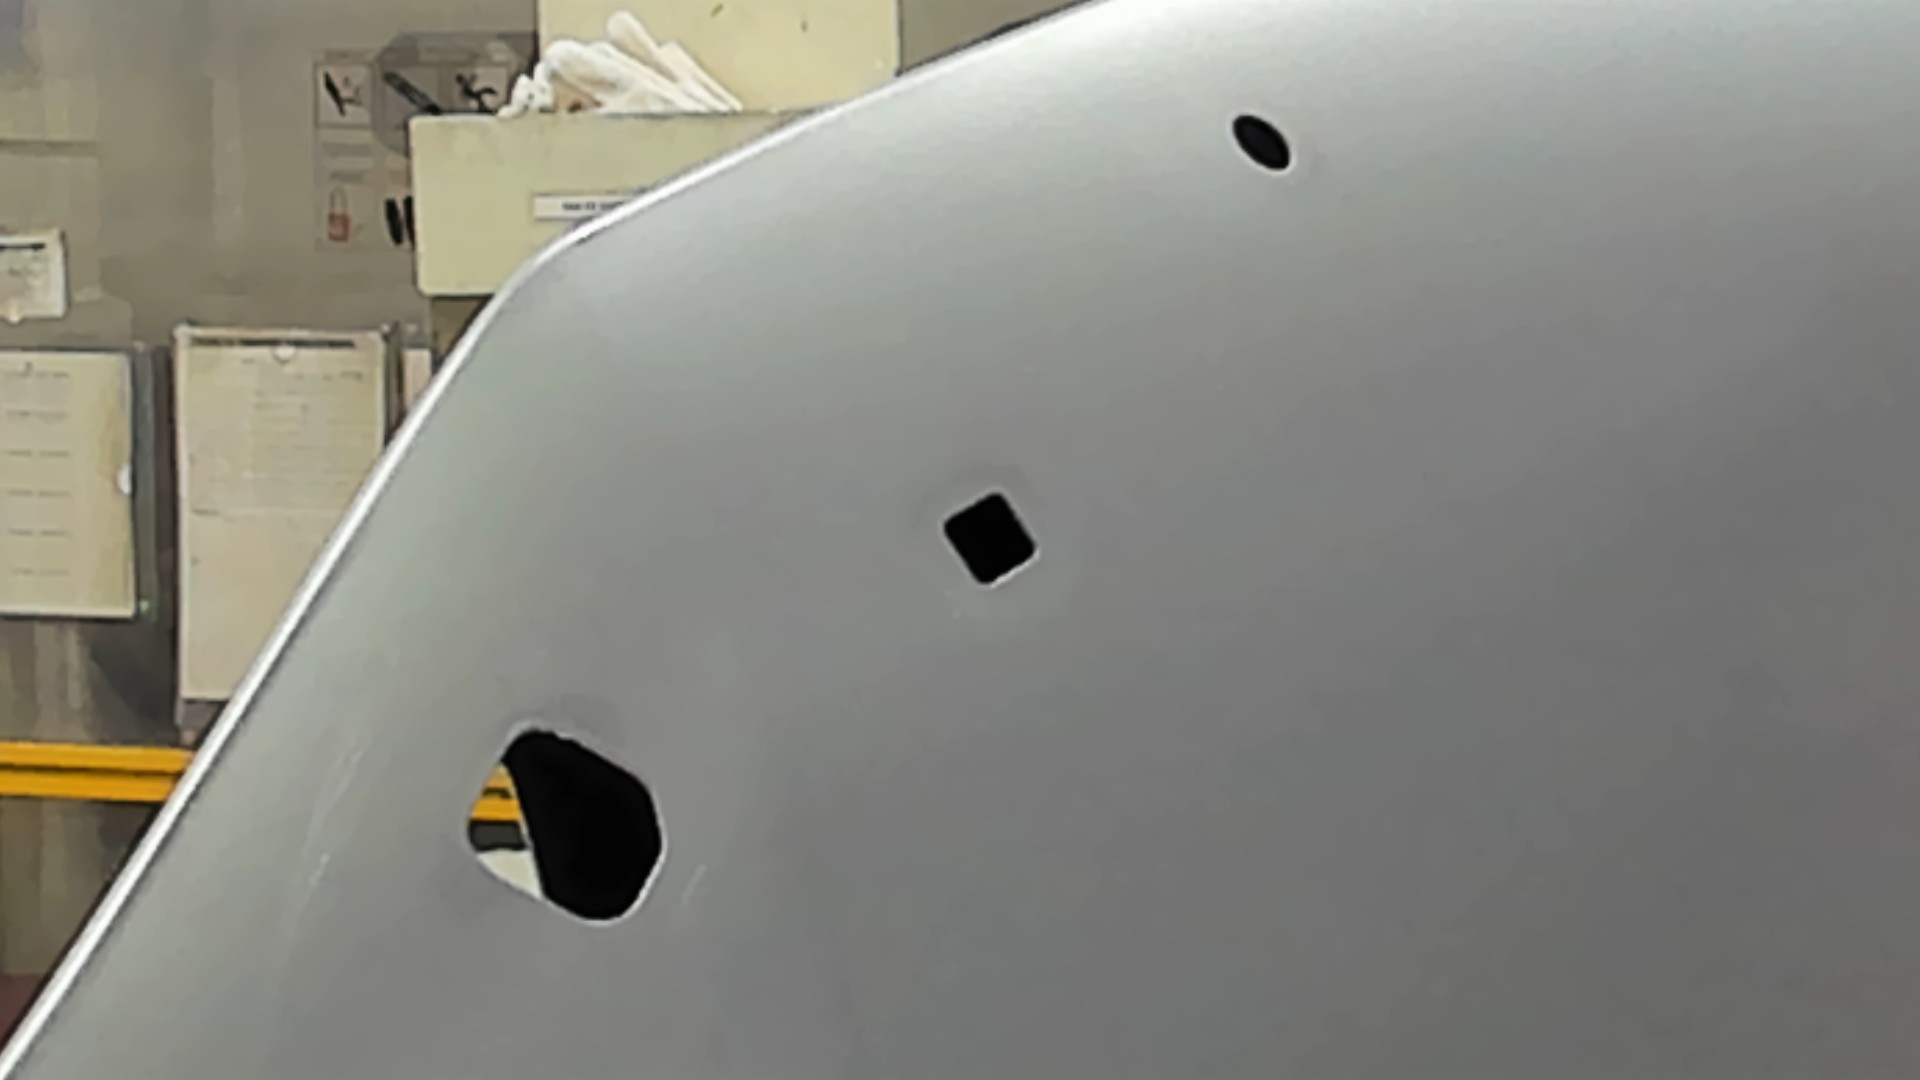capo: (1043, 187, 1920, 1080)
chico: (1226, 105, 1298, 177)
grande: (464, 723, 669, 928)
mediano: (936, 483, 1040, 593)
